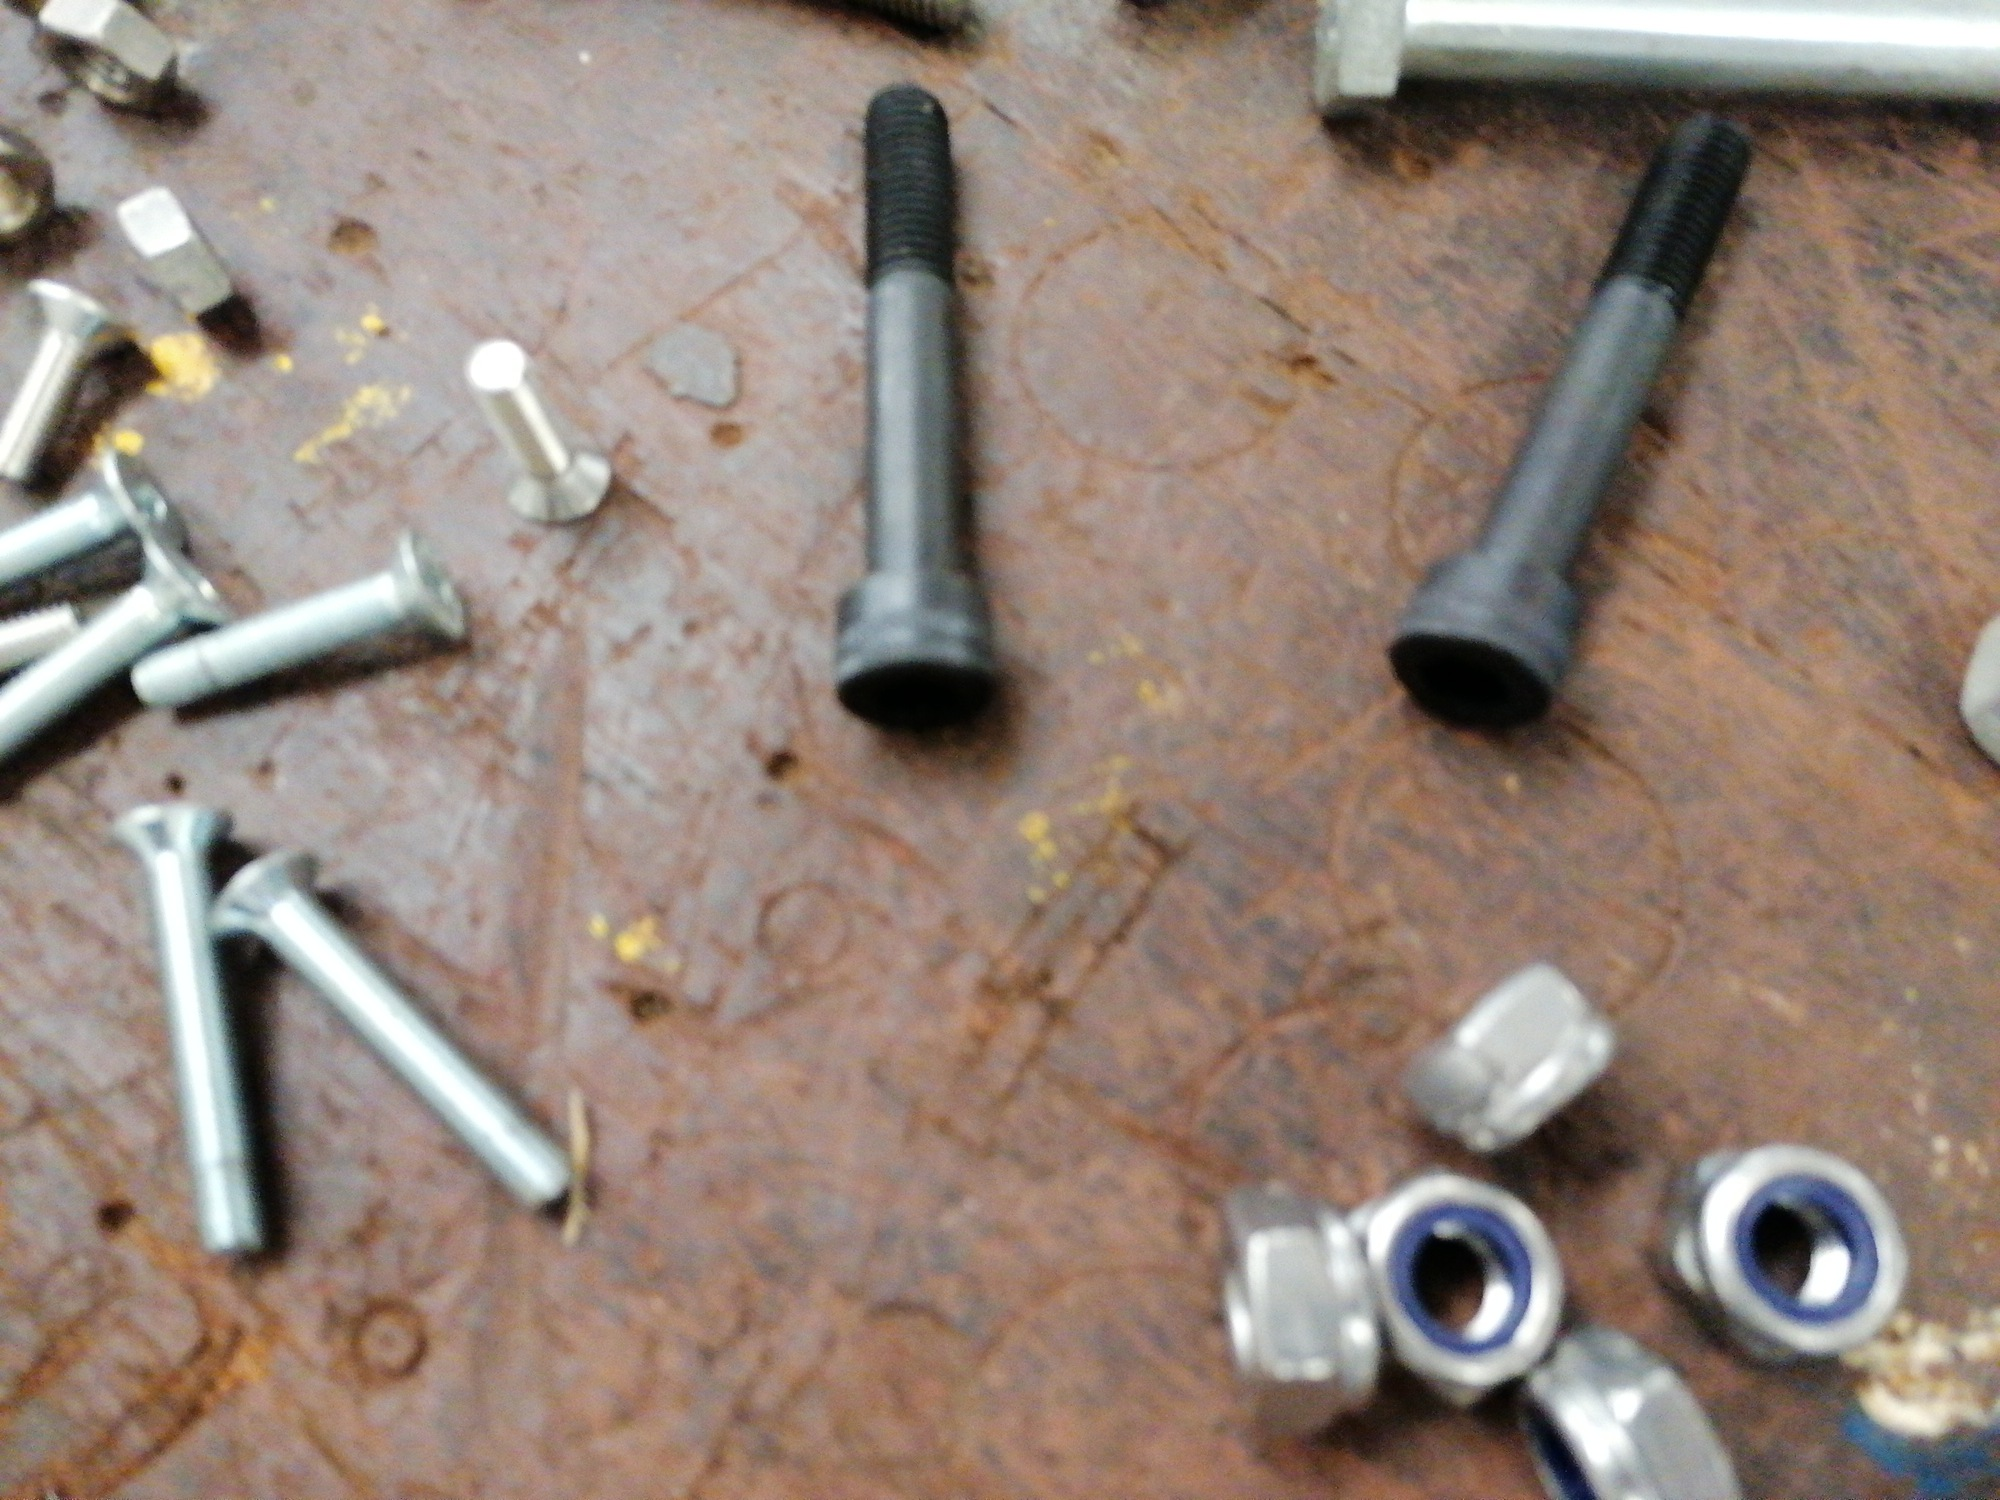bolt: (1383, 112, 1753, 736), (203, 846, 575, 1220), (827, 84, 998, 736), (1310, 0, 1998, 121), (109, 800, 269, 1261), (129, 526, 469, 714), (0, 533, 235, 772), (458, 339, 614, 523), (2, 279, 132, 492), (2, 451, 189, 589)
nut: (1649, 1138, 1913, 1371), (1346, 1161, 1572, 1412), (1394, 955, 1628, 1153), (1507, 1317, 1750, 1500), (1216, 1186, 1384, 1443), (115, 181, 243, 329), (28, 0, 180, 117), (0, 126, 55, 255)
